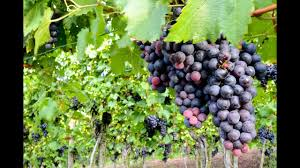Black grapes: (199, 23, 270, 156), (160, 26, 220, 133), (135, 20, 180, 94)
